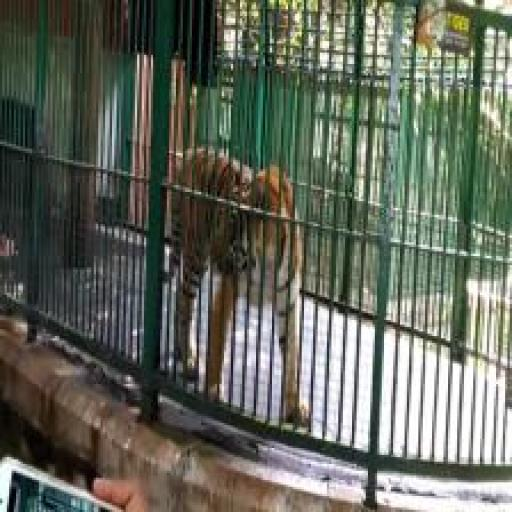Tiger: (158, 130, 318, 440)
